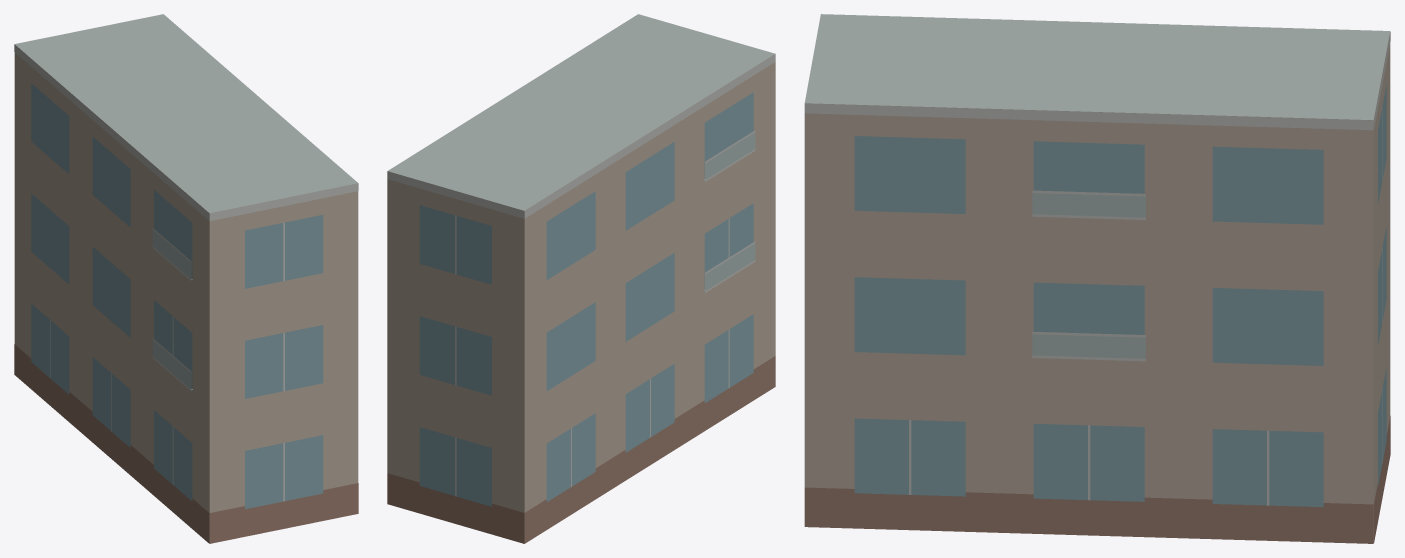
Rendered from survey-upis-32631723.glb.
The picture shows the model from 3 angles, left to right: view 1: azimuth 30°, elevation 25°; view 2: azimuth 150°, elevation 25°; view 3: azimuth 270°, elevation 25°; orthographic projection. The views are drawn at different scales.
Visible parts, largest first — view 1: survey-upis-32631723.tmp; view 2: survey-upis-32631723.tmp; view 3: survey-upis-32631723.tmp.
Boxes of the visible parts, <box> form: survey-upis-32631723.tmp: <box>14,14,358,543</box>; survey-upis-32631723.tmp: <box>387,14,775,543</box>; survey-upis-32631723.tmp: <box>804,14,1390,543</box>.
Bounding box in the file's own units: 5.49 × 10.2 × 12.79.
